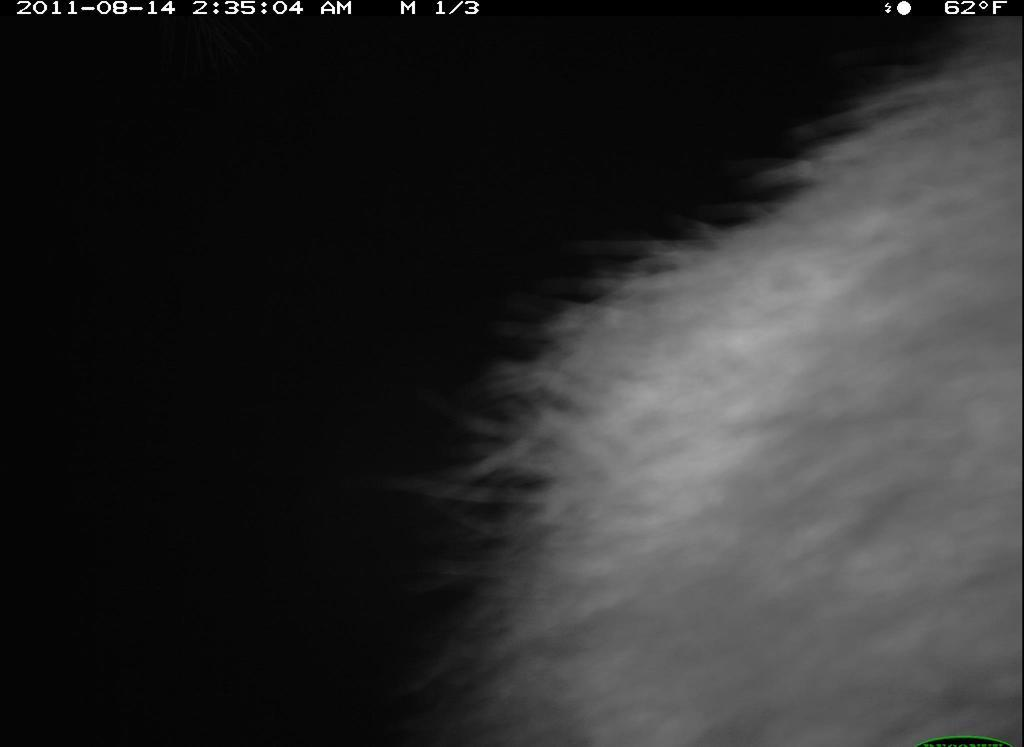raccoon: (465, 27, 1021, 747)
